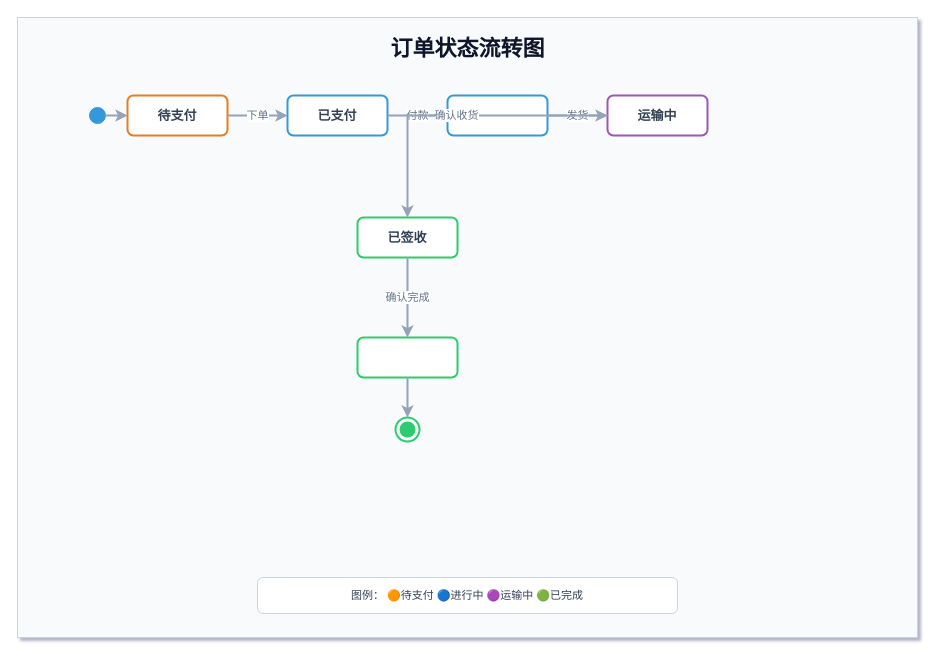
Image size: 941x661. Some labels were removed from this diagram. Each missing label, with the box of its shape:
已完成: (356, 336, 458, 378)
待发货: (446, 94, 548, 136)
